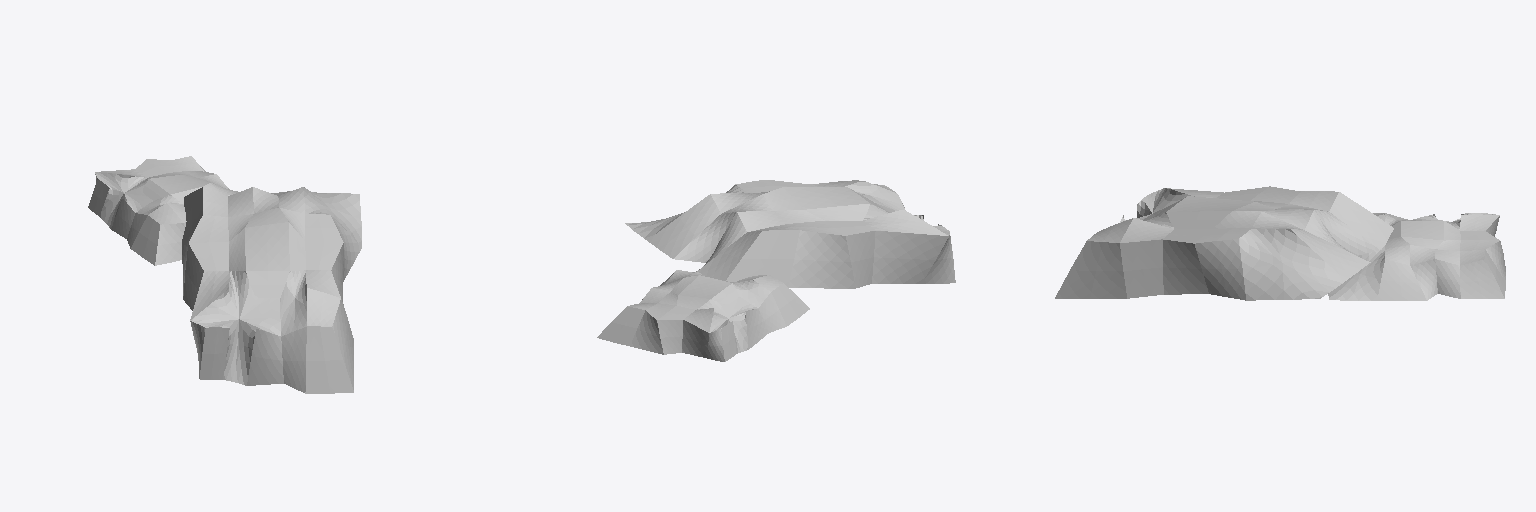
The model's file is bigstones.obj.
3 views of the same model, side by side, from view 1: azimuth 30°, elevation 25°; view 2: azimuth 150°, elevation 25°; view 3: azimuth 270°, elevation 25° (orthographic).
Visible parts, largest first — view 1: pCube55; view 2: pCube55; view 3: pCube55.
Boxes of the visible parts, <box> form: pCube55: <box>88,156,361,393</box>; pCube55: <box>597,180,955,361</box>; pCube55: <box>1055,186,1505,300</box>.
Size of the model in its own units: 8.4 by 3.46 by 13.29.